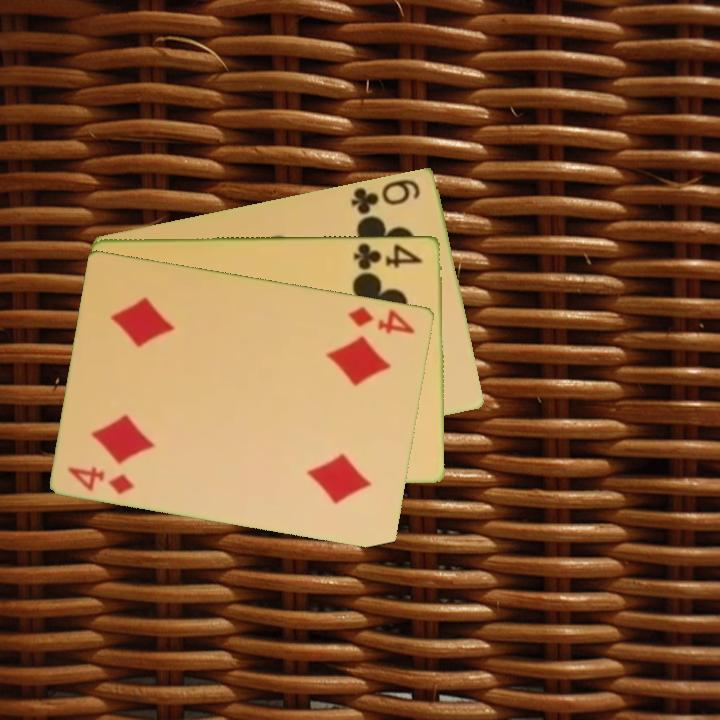4c: (351, 239, 426, 273)
4d: (345, 302, 418, 337), (65, 462, 138, 497)
6c: (347, 175, 424, 217)
